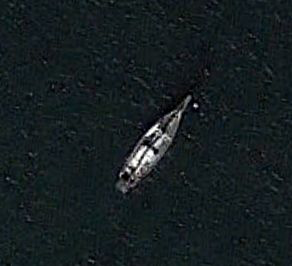boat: (114, 93, 192, 194)
